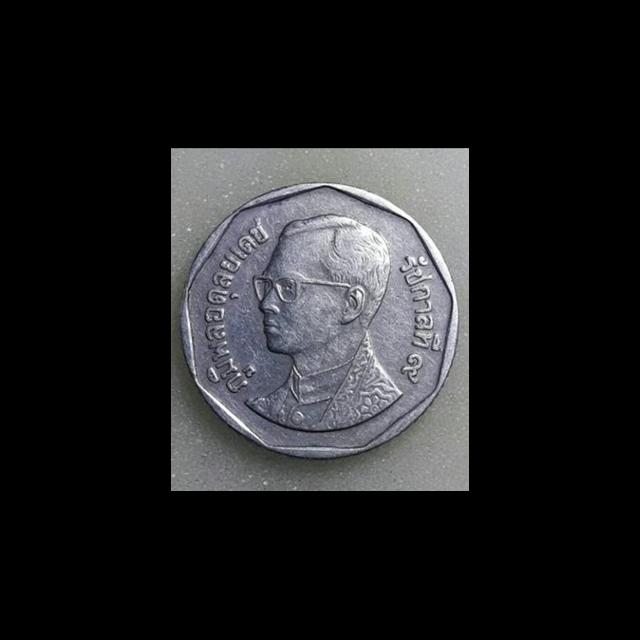5-baht: (171, 171, 469, 465)
